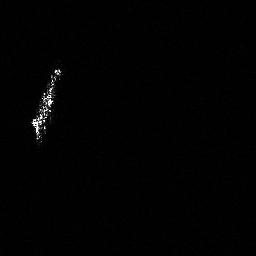ship: (26, 64, 66, 146)
